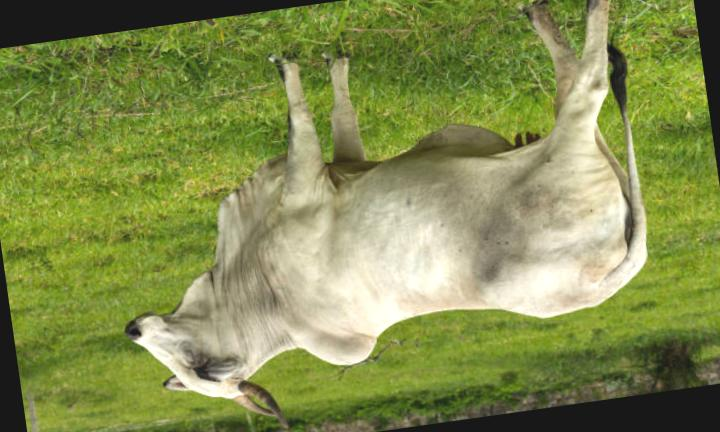Brahman: (126, 0, 647, 427)
